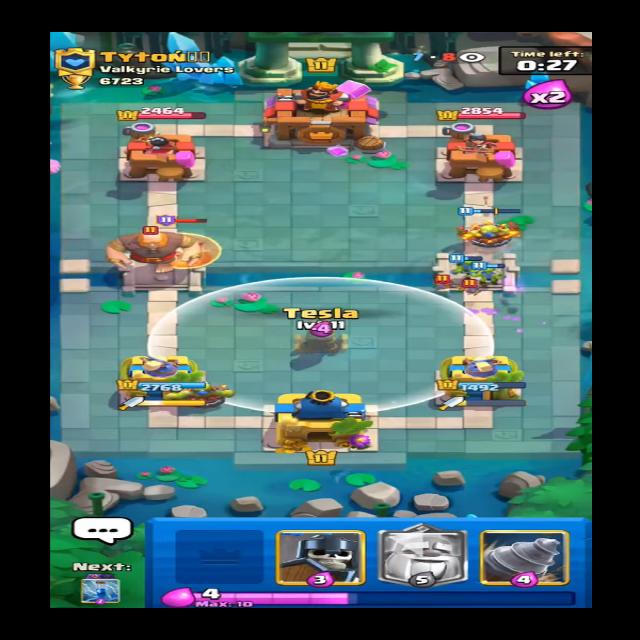bats: (428, 274, 458, 296), (454, 278, 484, 298)
evo-wizard: (155, 218, 223, 266)
giant: (105, 222, 207, 270)
